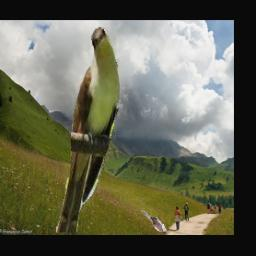Cuckoo: (57, 28, 121, 233), (143, 210, 169, 233)
